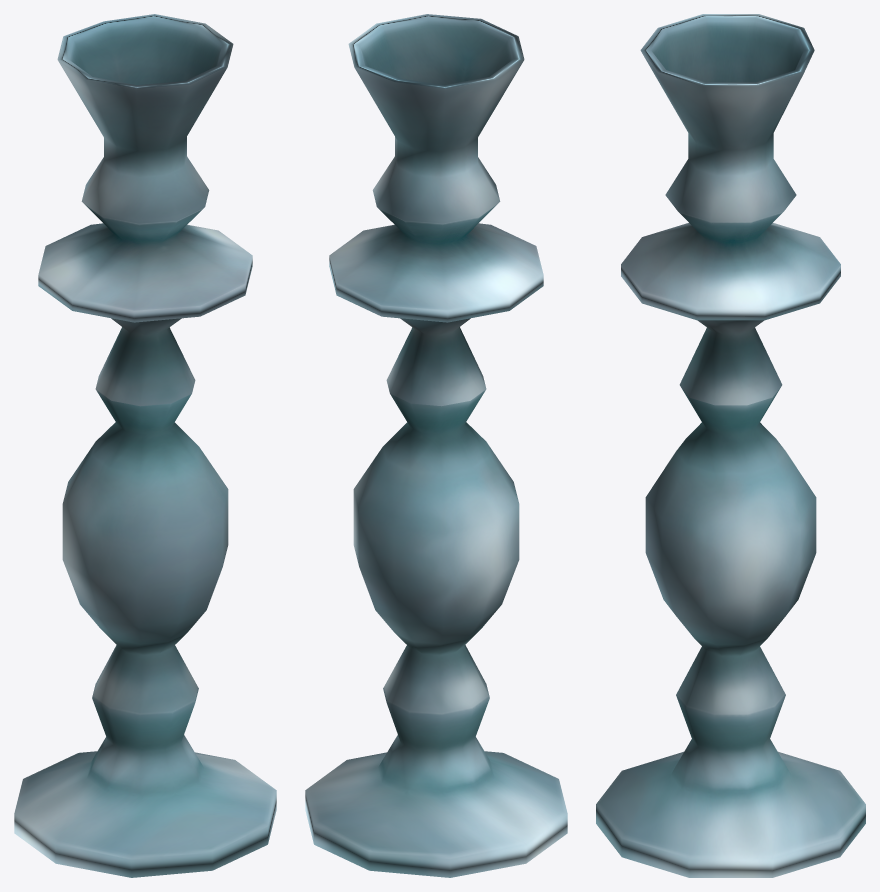
Rendered from candelabrum_01.fbx.
3 views of the same model, side by side, from view 1: azimuth 30°, elevation 25°; view 2: azimuth 150°, elevation 25°; view 3: azimuth 270°, elevation 25° (orthographic).
Parts seen in each view (by area): view 1: candelabrum_01; view 2: candelabrum_01; view 3: candelabrum_01.
Part boxes in pixels (<box>): candelabrum_01: <box>14,14,276,877</box>; candelabrum_01: <box>305,14,567,877</box>; candelabrum_01: <box>596,14,865,877</box>.
Bounding box in the file's own units: 5.54 × 18.45 × 5.83.
